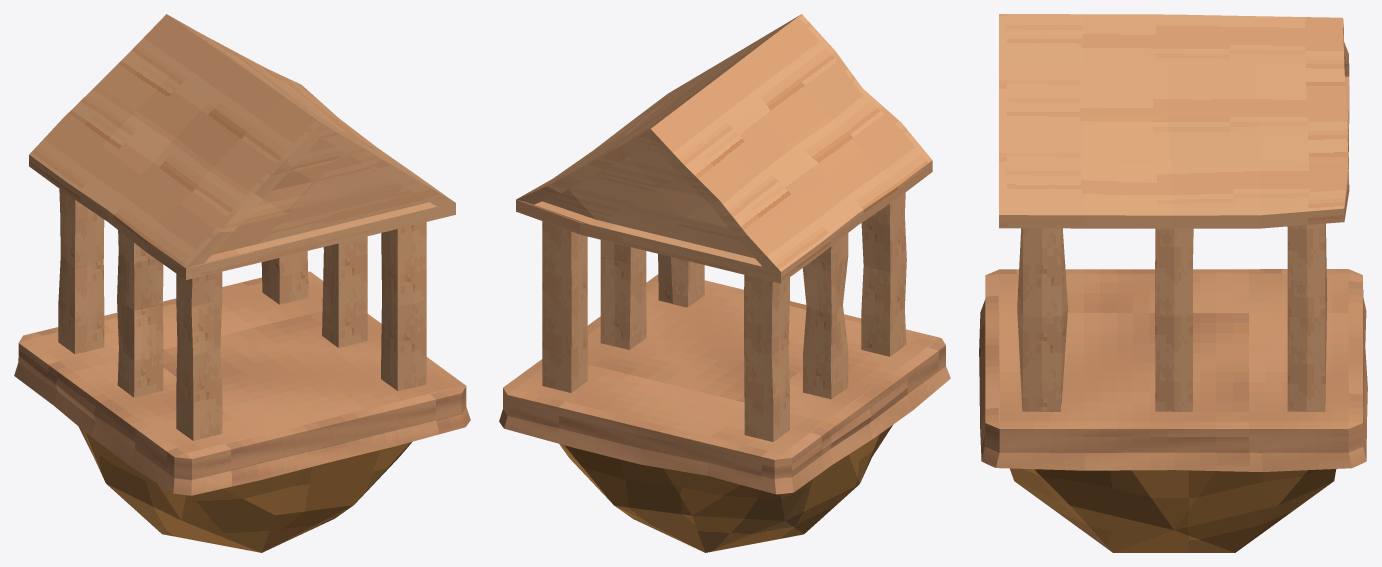
The model's file is temple.glb.
3 renders of one model, left to right at view 1: azimuth 30°, elevation 25°; view 2: azimuth 150°, elevation 25°; view 3: azimuth 270°, elevation 25°, orthographic. The views are drawn at different scales.
Visible parts, largest first — view 1: temple; view 2: temple; view 3: temple.
Part boxes in pixels (left/top/right/bottom): temple: left=14, top=14, right=470, bottom=552; temple: left=499, top=14, right=950, bottom=552; temple: left=979, top=14, right=1367, bottom=552.
Size of the model in its own units: 20.73 by 30.96 by 20.58.
3 materials, 3 textured.
